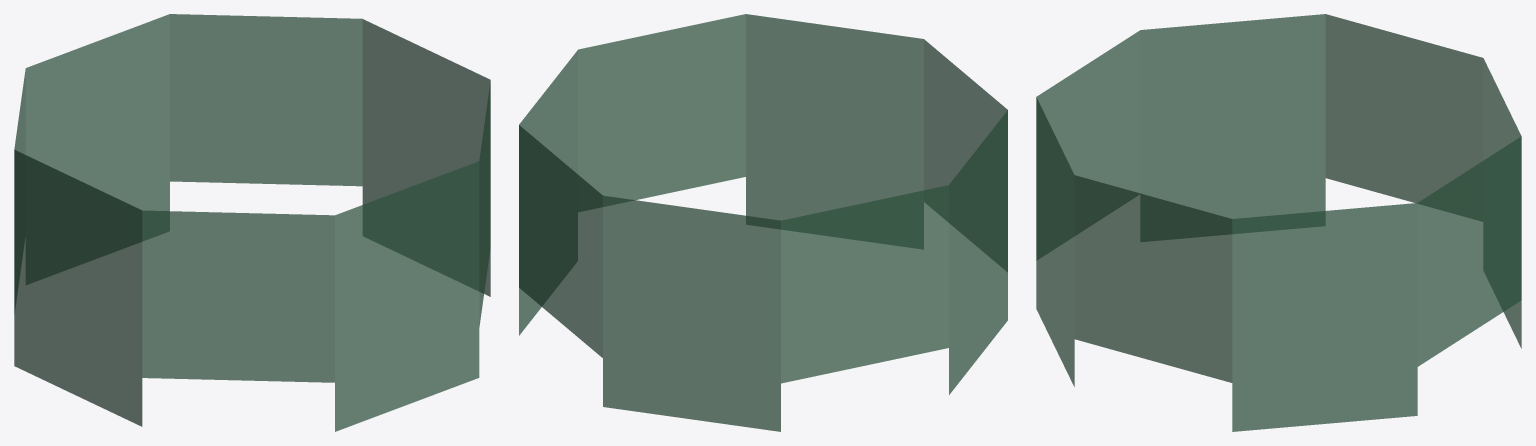
The model's file is TheOctagon_ExtCrystal.gltf.
The picture shows the model from 3 angles, left to right: view 1: azimuth 30°, elevation 25°; view 2: azimuth 150°, elevation 25°; view 3: azimuth 270°, elevation 25°; orthographic projection. The views are drawn at different scales.
Visible parts, largest first — view 1: TheOctagon_ExtCrystal; view 2: TheOctagon_ExtCrystal; view 3: TheOctagon_ExtCrystal.
Part boxes in pixels (x1,y1,x2,y2): TheOctagon_ExtCrystal: [14, 14, 490, 431]; TheOctagon_ExtCrystal: [519, 14, 1007, 431]; TheOctagon_ExtCrystal: [1036, 14, 1521, 431].
Size of the model in its own units: 81.67 by 39.56 by 81.67.
